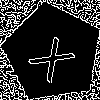X: (27, 27, 83, 84)
